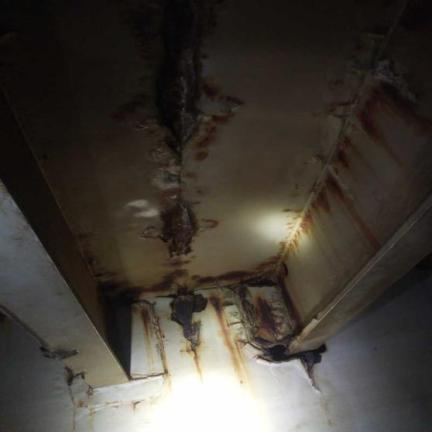besi_tidak_karat: (0, 288, 431, 431), (0, 181, 127, 387), (289, 194, 431, 352), (315, 267, 431, 431)
karat: (286, 68, 431, 350), (158, 0, 204, 153), (237, 282, 293, 351), (171, 289, 207, 354), (209, 296, 238, 372), (160, 197, 197, 256), (99, 280, 143, 303), (145, 270, 185, 292), (193, 271, 259, 283), (153, 166, 179, 189)
